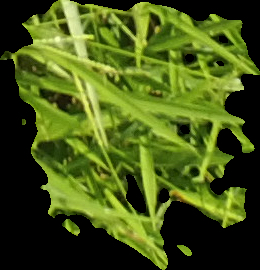grass: (1, 1, 258, 268)
